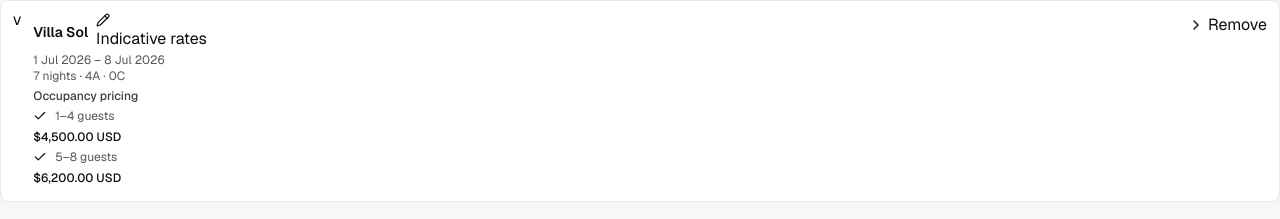
Test: QuoteShortlistLine — indicative rates (GAP-114) › derives a banded line's badge from its CHECKED bands, so unticking the flagged band clears it
This screenshot has width=1280, height=219.
Check: the text "Indicative rates" is shown, box [96,28,207,49]
Click the checkbox named "include the 5–8 guests band" at {"x": 40, "y": 157}, box [33,150,47,164]
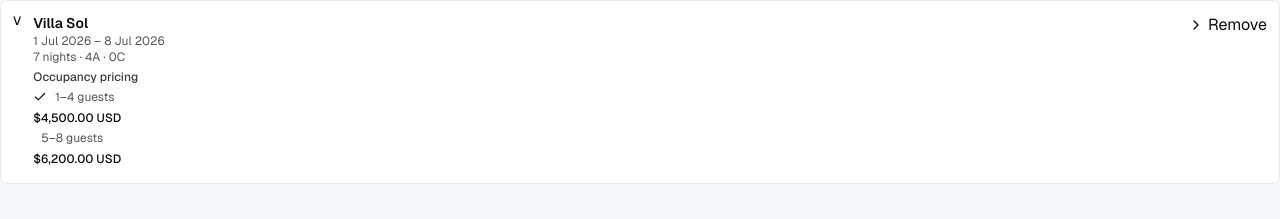
Check: the text "Indicative rates" is gone
